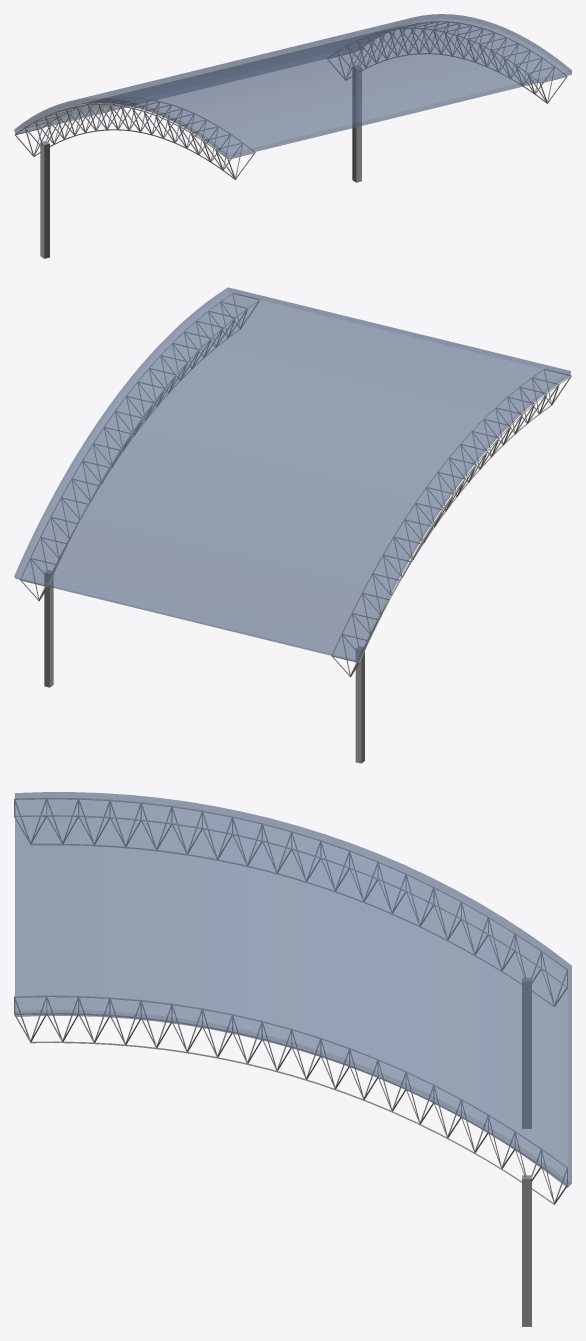
File: vitre smooth.FBX
3 views of the same model, one above another, from view 1: azimuth 30°, elevation 25°; view 2: azimuth 150°, elevation 25°; view 3: azimuth 270°, elevation 25° (orthographic). The views are drawn at different scales.
Parts seen in each view (by area): view 1: Box14; view 2: Box14; view 3: Box14.
Boxes of the visible parts, <box> form: Box14: <box>14,14,571,258</box>; Box14: <box>14,287,571,763</box>; Box14: <box>14,792,571,1326</box>.
Bounding box in the file's own units: 36.32 × 25.31 × 39.2.
